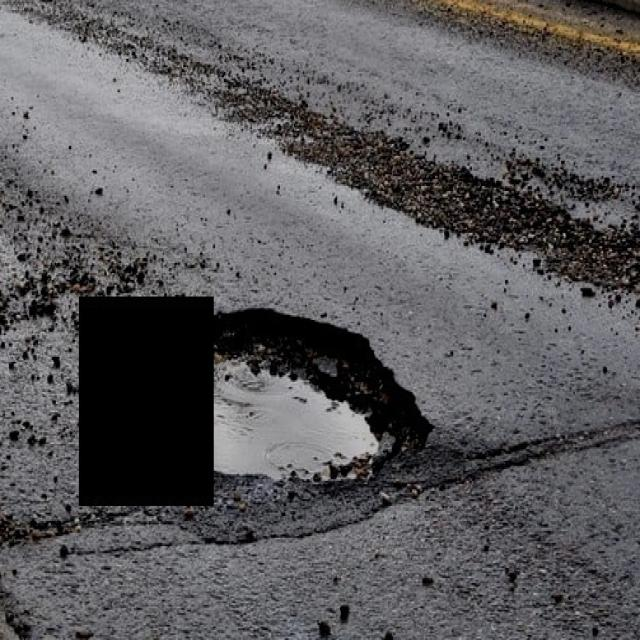road-pothole: (214, 302, 440, 500)
